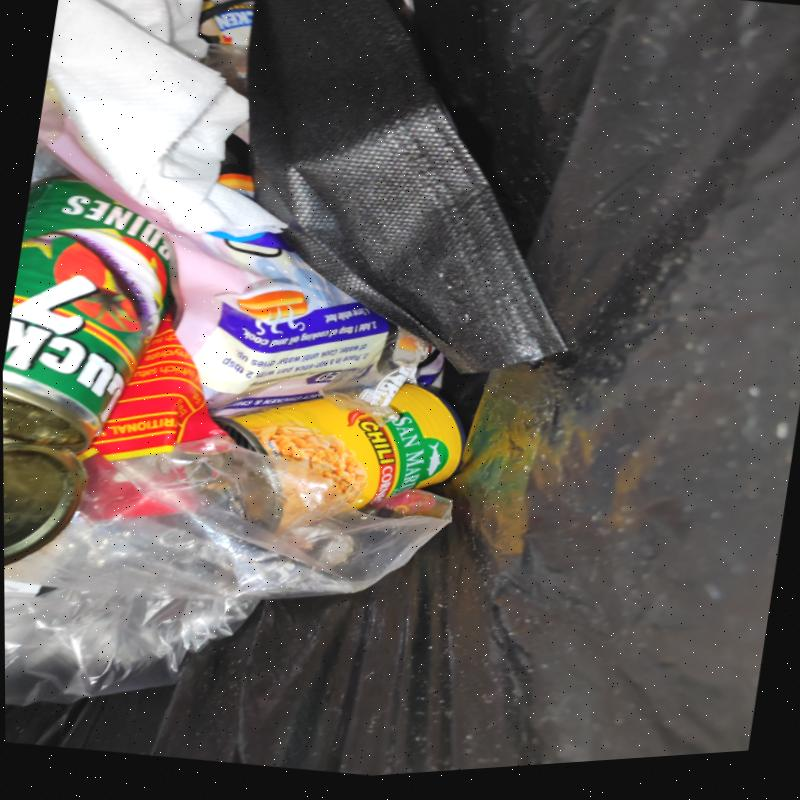aluminum: (3, 178, 172, 568), (212, 383, 461, 511)
facemask: (243, 0, 572, 376)
food wrapper: (37, 97, 399, 419), (80, 313, 226, 521)
paper: (47, 0, 287, 242)
plastic bag: (4, 450, 453, 707)
